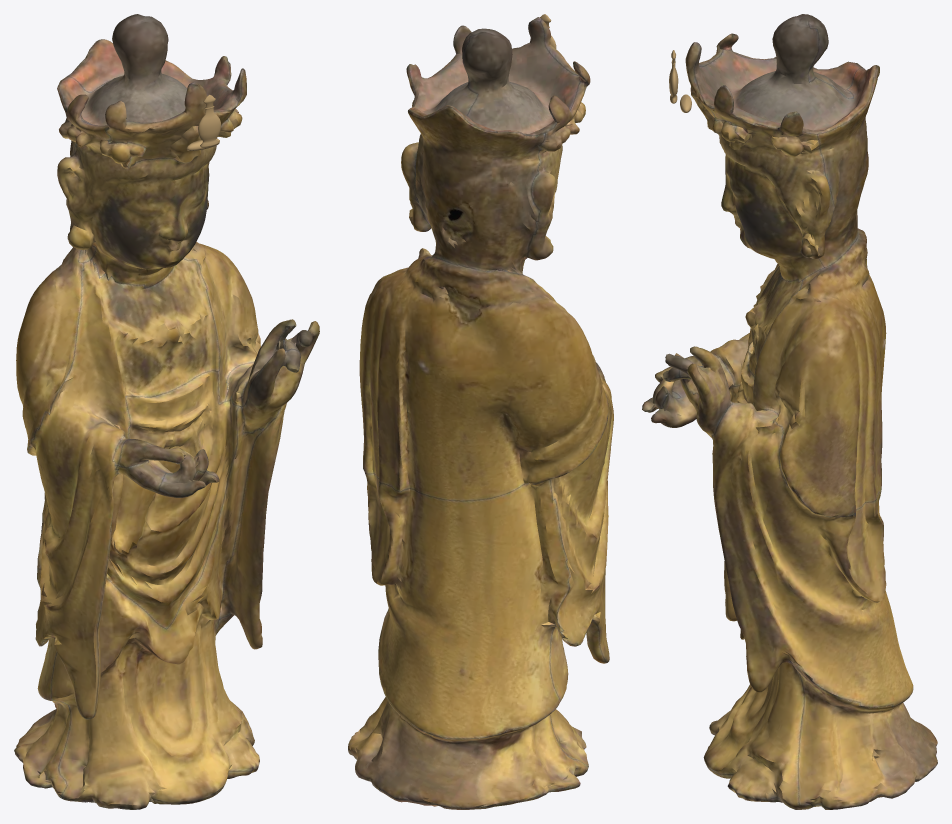
Rendered from mahastamaprapta.glb.
3 views of the same model, side by side, from view 1: azimuth 30°, elevation 25°; view 2: azimuth 150°, elevation 25°; view 3: azimuth 270°, elevation 25° (orthographic). The views are drawn at different scales.
Parts seen in each view (by area): view 1: NMK_Goryeo_companion_interpreted_as_mahastamaprapta, Mahasthamaprapta crown water vessel; view 2: NMK_Goryeo_companion_interpreted_as_mahastamaprapta; view 3: NMK_Goryeo_companion_interpreted_as_mahastamaprapta.
Part boxes in pixels (x1,y1,x2,y2): NMK_Goryeo_companion_interpreted_as_mahastamaprapta: [14, 14, 319, 809]; Mahasthamaprapta crown water vessel: [198, 95, 220, 147]; NMK_Goryeo_companion_interpreted_as_mahastamaprapta: [348, 17, 613, 809]; NMK_Goryeo_companion_interpreted_as_mahastamaprapta: [642, 14, 937, 809].
Bounding box in the file's own units: 0.334 × 1 × 0.3612.
2 materials, 1 textured.
